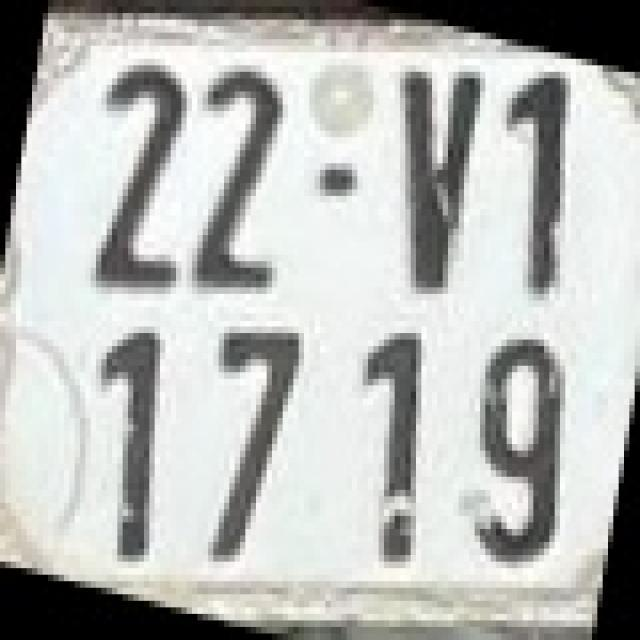1: (352, 320, 432, 568), (90, 320, 170, 562), (501, 65, 576, 294)
2: (90, 52, 186, 294), (192, 59, 288, 294)
7: (203, 320, 304, 568)
9: (464, 326, 571, 568)
V: (394, 71, 486, 288)
